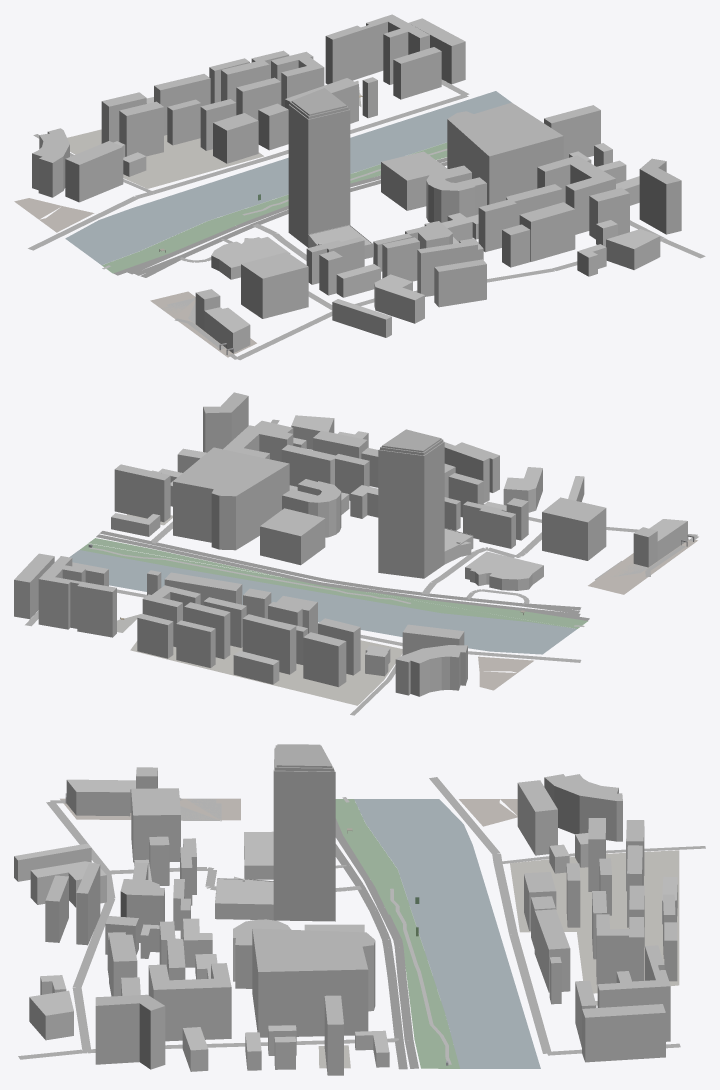
The picture shows the model from 3 angles, top to bottom: view 1: azimuth 30°, elevation 25°; view 2: azimuth 150°, elevation 25°; view 3: azimuth 270°, elevation 25°; orthographic projection. The views are drawn at different scales.
Bounding box in the file's own units: 555 × 133 × 542.
